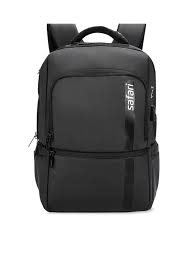backpack: (32, 23, 160, 212)
